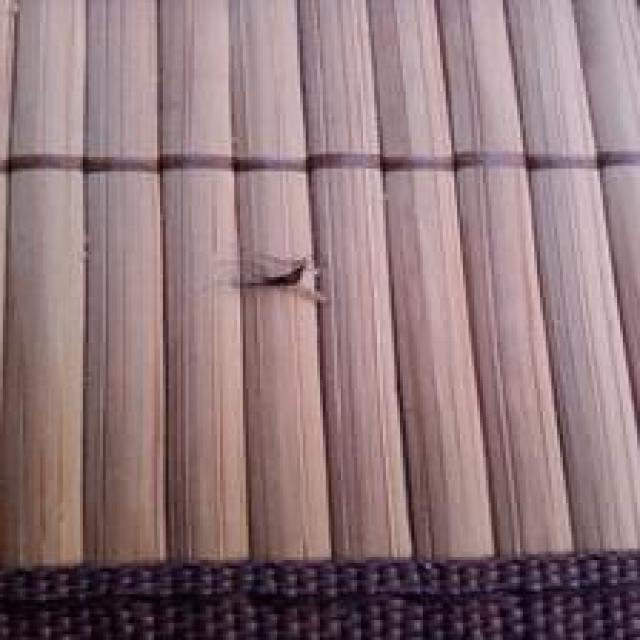Aedes albopictus: (208, 248, 328, 306)
